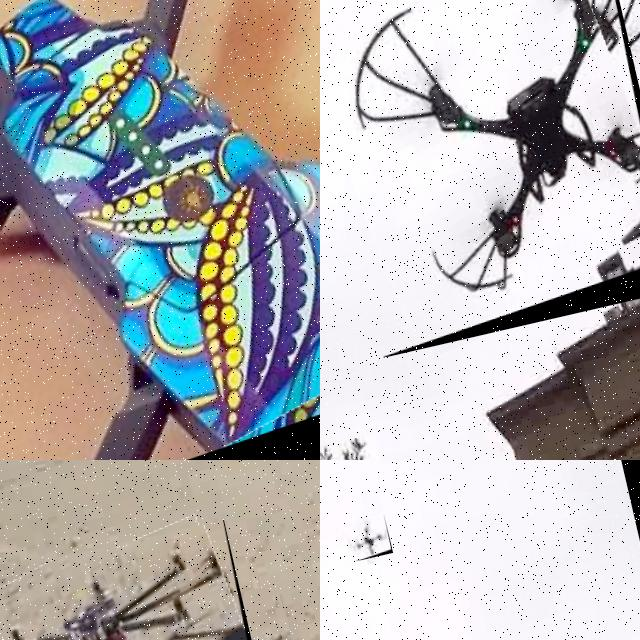0: (320, 0, 640, 357), (0, 519, 273, 640), (346, 514, 393, 561)
drone: (0, 0, 320, 460)
